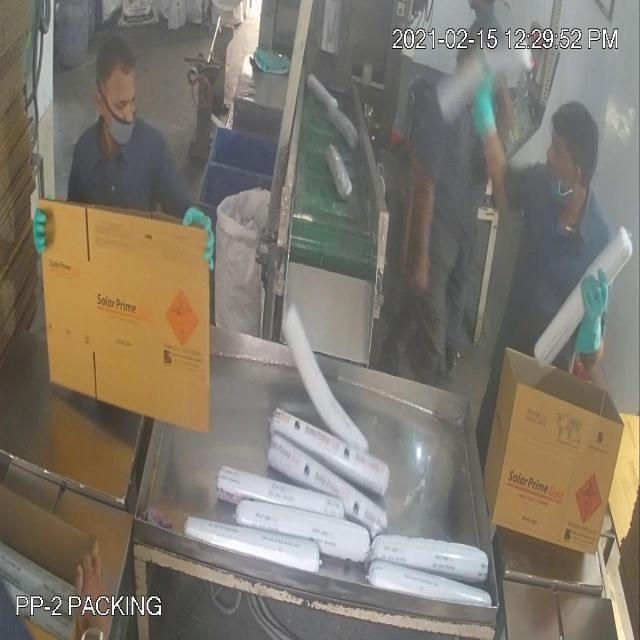gloves: (461, 49, 503, 164), (576, 252, 614, 371)
no-gloves: (406, 157, 438, 304)
